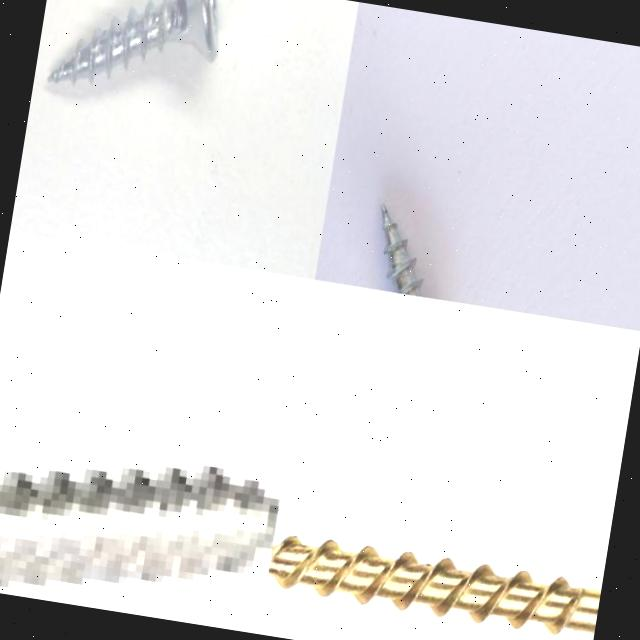Screw: (0, 465, 280, 591), (268, 536, 601, 635), (48, 0, 219, 83), (381, 203, 423, 297)
